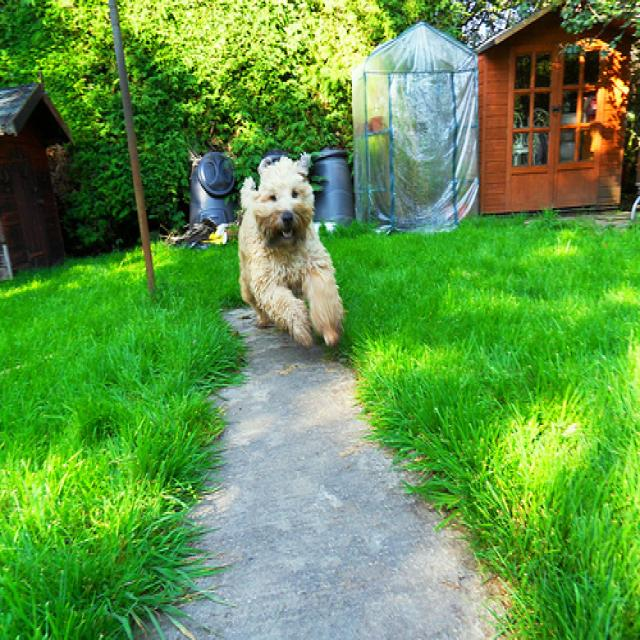dog-wheaten_terrier: (233, 147, 348, 355)
